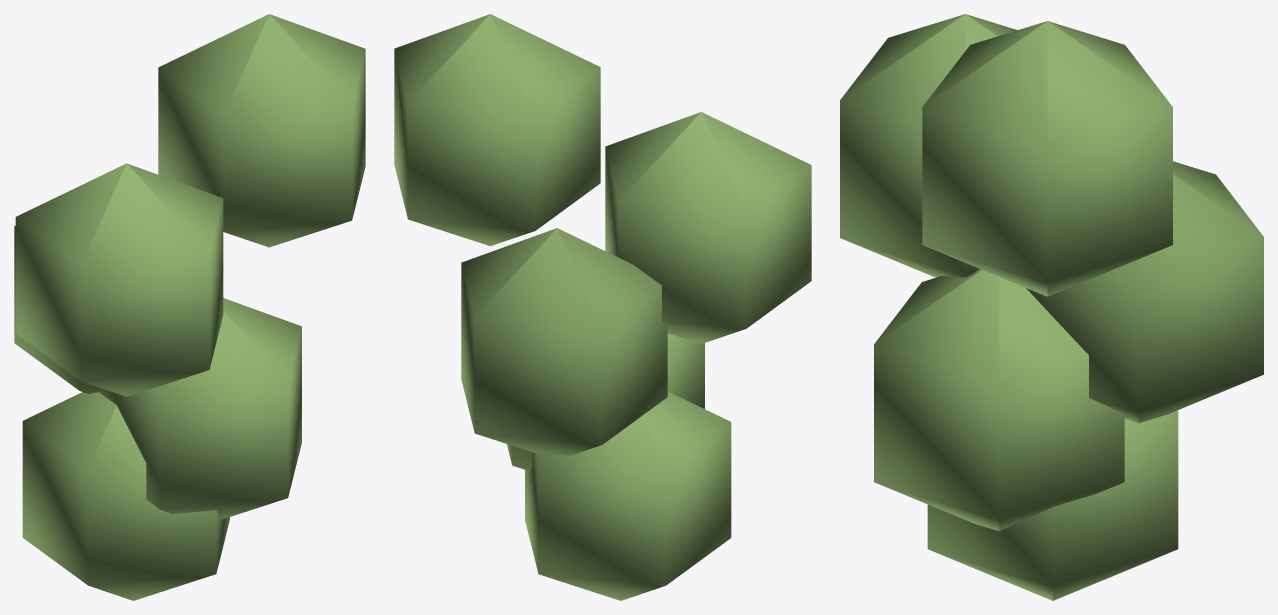
Rendered from fruit-grape-unripe-far.glb.
3 views of the same model, side by side, from view 1: azimuth 30°, elevation 25°; view 2: azimuth 150°, elevation 25°; view 3: azimuth 270°, elevation 25° (orthographic). The views are drawn at different scales.
Visible parts, largest first — view 1: fruit-grape-unripe-far; view 2: fruit-grape-unripe-far; view 3: fruit-grape-unripe-far.
Boxes of the visible parts, x1,y1,x2,y2 form: fruit-grape-unripe-far: (14,14,365,600); fruit-grape-unripe-far: (394,14,811,600); fruit-grape-unripe-far: (840,14,1263,600).
Bounding box in the file's own units: 0.2778 × 0.4192 × 0.2451.
